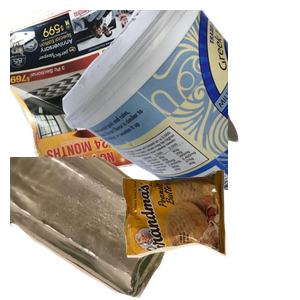glass: (10, 157, 190, 300)
paper: (10, 10, 241, 188)
plastic: (60, 10, 300, 190)
trash: (120, 168, 300, 300)
